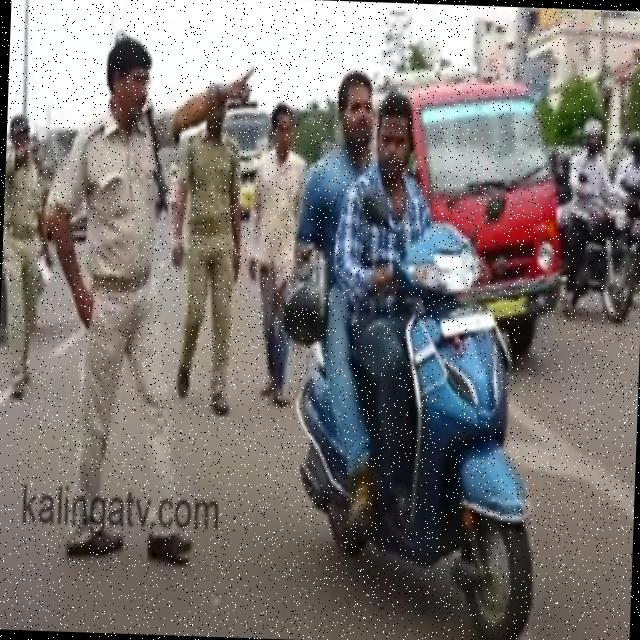No helmet: (370, 94, 419, 193)
